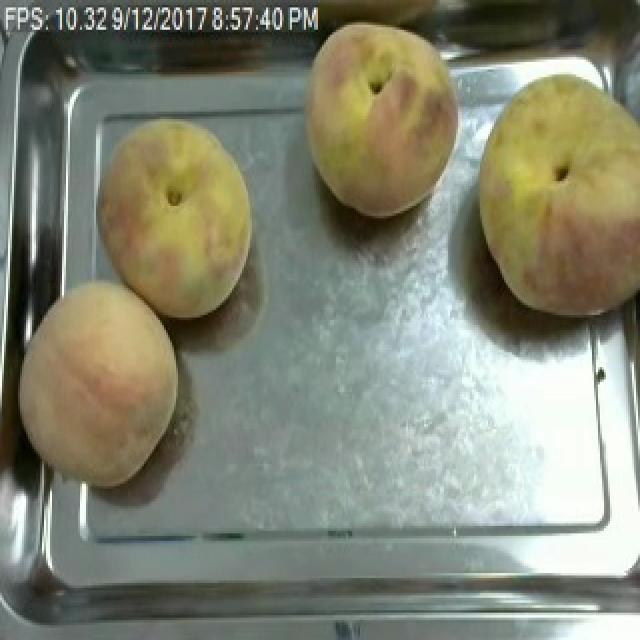Fruit: (462, 52, 640, 330), (6, 268, 190, 496), (294, 10, 478, 228), (86, 109, 264, 328)
